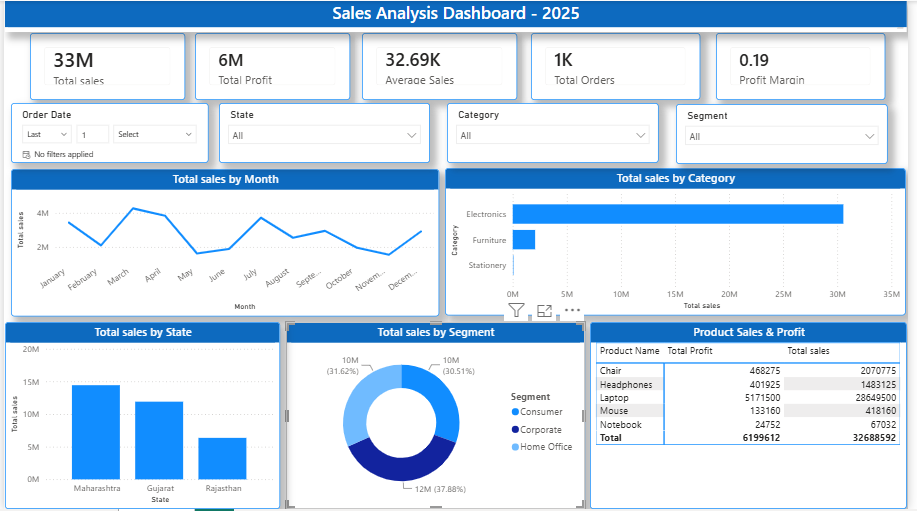

The dashboard page shown, as its layout file describes it:
{"tool":"powerbi","page":{"name":"Page 1","canvas":[1280,720],"ordinal":0},"visuals":[{"type":"lineChart","fields":{"Category":["Orders.Order Date.Variation.Date Hierarchy.Month"],"Y":["Orders.Total sales"]},"box":[10,238.6,607.1,208.6],"z":0},{"type":"clusteredBarChart","fields":{"Category":["Orders.Category"],"Y":["Orders.Total sales"]},"box":[625.7,237.1,652.9,208.6],"z":1000},{"type":"donutChart","fields":{"Y":["Orders.Total sales"],"Series":["Customers.Segment"]},"box":[399.7,455,423.8,265],"z":2000},{"type":"clusteredColumnChart","fields":{"Category":["Orders.State"],"Y":["Orders.Total sales"]},"box":[1.4,455,389.8,265],"z":3000},{"type":"pivotTable","title":"Product Sales & Profit","fields":{"Rows":["Orders.Product Name"],"Values":["Orders.Total Profit","Orders.Total sales"]},"box":[830.6,455,449.3,265],"z":4000},{"type":"cardVisual","fields":{"Data":["Orders.Total sales"]},"box":[36.9,45.4,219.7,95],"z":5000},{"type":"cardVisual","fields":{"Data":["Orders.Total Profit"]},"box":[270.7,45.4,219.7,95],"z":6000},{"type":"cardVisual","fields":{"Data":["Orders.Average Sales"]},"box":[507.4,45.4,219.7,95],"z":7000},{"type":"cardVisual","fields":{"Data":["Orders.Total Orders"]},"box":[746.9,45.4,239.5,95],"z":8000},{"type":"cardVisual","fields":{"Data":["Orders.Profit Margin"]},"box":[1009.1,45.4,239.5,95],"z":9000},{"type":"slicer","fields":{"Values":["Orders.Order Date"]},"box":[9.9,144.6,280,85],"z":10000},{"type":"slicer","fields":{"Values":["Products.Category"]},"box":[627.9,144.6,300.5,85],"z":11000},{"type":"slicer","fields":{"Values":["Orders.State"]},"box":[304.7,144.6,299.1,85],"z":12000},{"type":"slicer","fields":{"Values":["Customers.Segment"]},"box":[952.4,146,300.5,85],"z":13000},{"type":"textbox","title":"Sales Analysis Dashboard - 2025","box":[1.4,0,1278.4,43.9],"z":14000}]}

Visuals, with their boxes in screenshot pixels (x1, y1, x2, y2), scaled from the page's 1280x720 canvas onto the 917x511 screenshot:
lineChart - Orders.Order Date.Variation.Date Hierarchy.Month x Orders.Total sales: region(7, 169, 442, 317)
clusteredBarChart - Orders.Category x Orders.Total sales: region(448, 168, 916, 316)
donutChart - Orders.Total sales x Customers.Segment: region(286, 323, 590, 510)
clusteredColumnChart - Orders.State x Orders.Total sales: region(1, 323, 280, 510)
"Product Sales & Profit" pivotTable: region(595, 323, 916, 510)
cardVisual - Orders.Total sales: region(26, 32, 184, 100)
cardVisual - Orders.Total Profit: region(194, 32, 351, 100)
cardVisual - Orders.Average Sales: region(364, 32, 521, 100)
cardVisual - Orders.Total Orders: region(535, 32, 707, 100)
cardVisual - Orders.Profit Margin: region(723, 32, 895, 100)
slicer - Orders.Order Date: region(7, 103, 208, 163)
slicer - Products.Category: region(450, 103, 665, 163)
slicer - Orders.State: region(218, 103, 433, 163)
slicer - Customers.Segment: region(682, 104, 898, 164)
"Sales Analysis Dashboard - 2025" textbox: region(1, 0, 916, 31)
